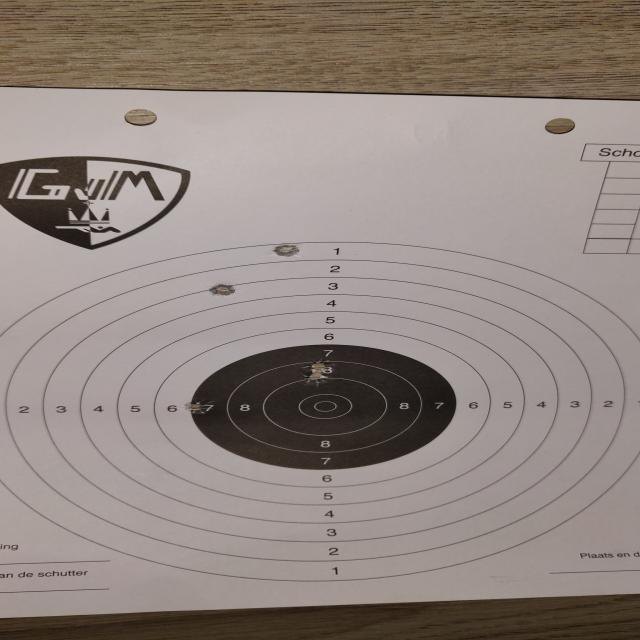1: (274, 243, 299, 256)
3: (209, 284, 236, 296)
7: (182, 400, 214, 414)
8: (305, 361, 331, 374)
9: (302, 374, 332, 385)
Target: (0, 240, 640, 584)
black_contour: (190, 344, 457, 470)
